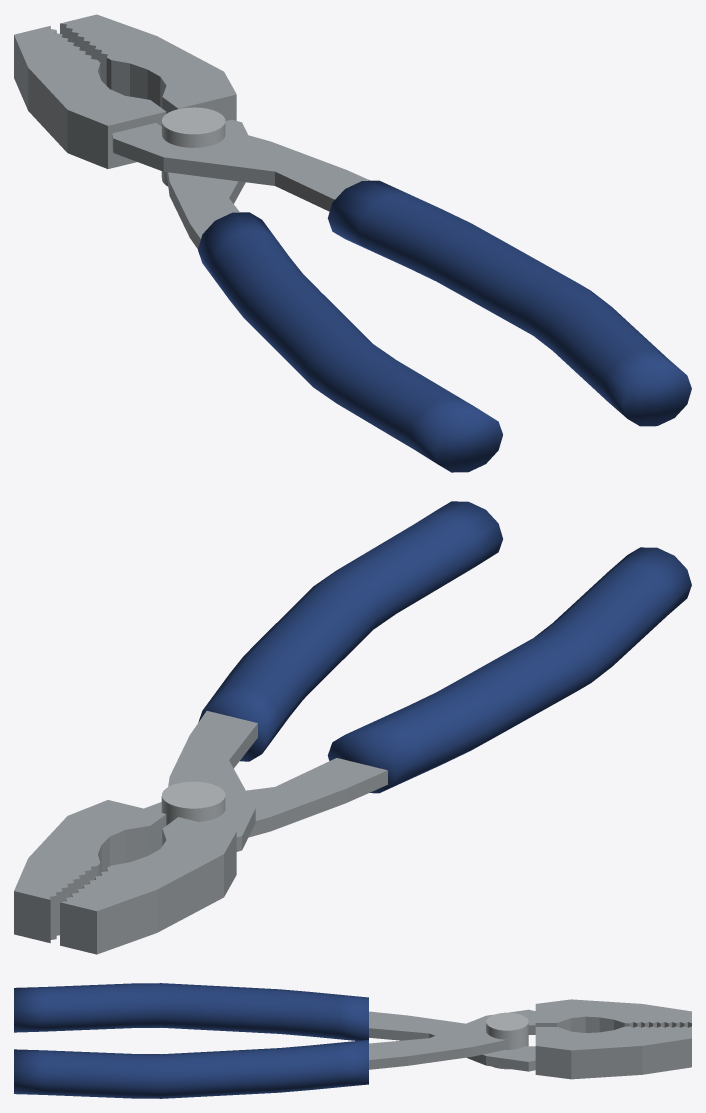
3 renders of one model, top to bottom at view 1: azimuth 30°, elevation 25°; view 2: azimuth 150°, elevation 25°; view 3: azimuth 270°, elevation 25°, orthographic. The views are drawn at different scales.
Parts seen in each view (by area): view 1: Left jaw right handle molded grip, Right jaw left handle molded grip, Left jaw right handle serrated combination jaw, Right jaw left handle serrated combination jaw, Left jaw right handle half lap steel arm, Right jaw left handle half lap steel arm, Fixed central pivot rivet; view 2: Right jaw left handle molded grip, Left jaw right handle molded grip, Left jaw right handle serrated combination jaw, Right jaw left handle serrated combination jaw, Left jaw right handle half lap steel arm, Right jaw left handle half lap steel arm, Fixed central pivot rivet; view 3: Left jaw right handle molded grip, Right jaw left handle molded grip, Right jaw left handle serrated combination jaw, Left jaw right handle half lap steel arm, Left jaw right handle serrated combination jaw, Right jaw left handle half lap steel arm, Fixed central pivot rivet.
Boxes of the visible parts, left/top/right/bottom form: Left jaw right handle molded grip: left=327, top=180, right=691, bottom=426; Right jaw left handle molded grip: left=198, top=212, right=502, bottom=472; Left jaw right handle serrated combination jaw: left=14, top=26, right=166, bottom=168; Right jaw left handle serrated combination jaw: left=60, top=14, right=236, bottom=121; Left jaw right handle half lap steel arm: left=112, top=123, right=369, bottom=211; Right jaw left handle half lap steel arm: left=166, top=119, right=247, bottom=248; Fixed central pivot rivet: left=161, top=107, right=225, bottom=186; Right jaw left handle molded grip: left=327, top=547, right=691, bottom=793; Left jaw right handle molded grip: left=198, top=501, right=502, bottom=761; Left jaw right handle serrated combination jaw: left=60, top=817, right=236, bottom=954; Right jaw left handle serrated combination jaw: left=14, top=800, right=166, bottom=943; Left jaw right handle half lap steel arm: left=168, top=711, right=257, bottom=851; Right jaw left handle half lap steel arm: left=144, top=758, right=387, bottom=837; Fixed central pivot rivet: left=161, top=781, right=225, bottom=825; Left jaw right handle molded grip: left=14, top=1040, right=368, bottom=1098; Right jaw left handle molded grip: left=14, top=983, right=368, bottom=1040; Right jaw left handle serrated combination jaw: left=535, top=1026, right=691, bottom=1079; Left jaw right handle half lap steel arm: left=369, top=1009, right=535, bottom=1069; Left jaw right handle serrated combination jaw: left=535, top=999, right=691, bottom=1032; Right jaw left handle half lap steel arm: left=369, top=1011, right=535, bottom=1071; Fixed central pivot rivet: left=486, top=1012, right=528, bottom=1069.
Size of the model in its own units: 0.0623 by 0.012 by 0.191.
